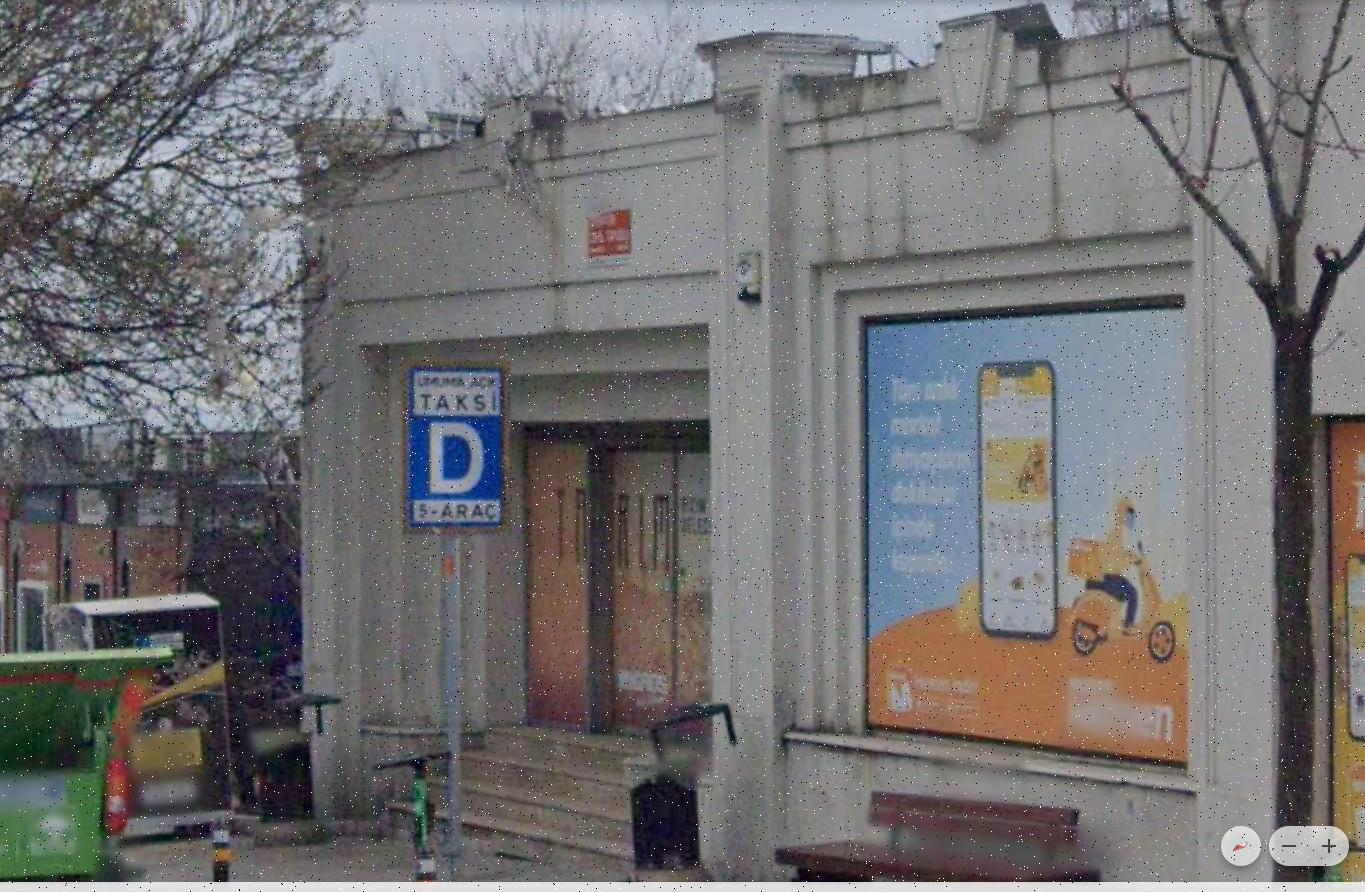station: (414, 414, 500, 503)
